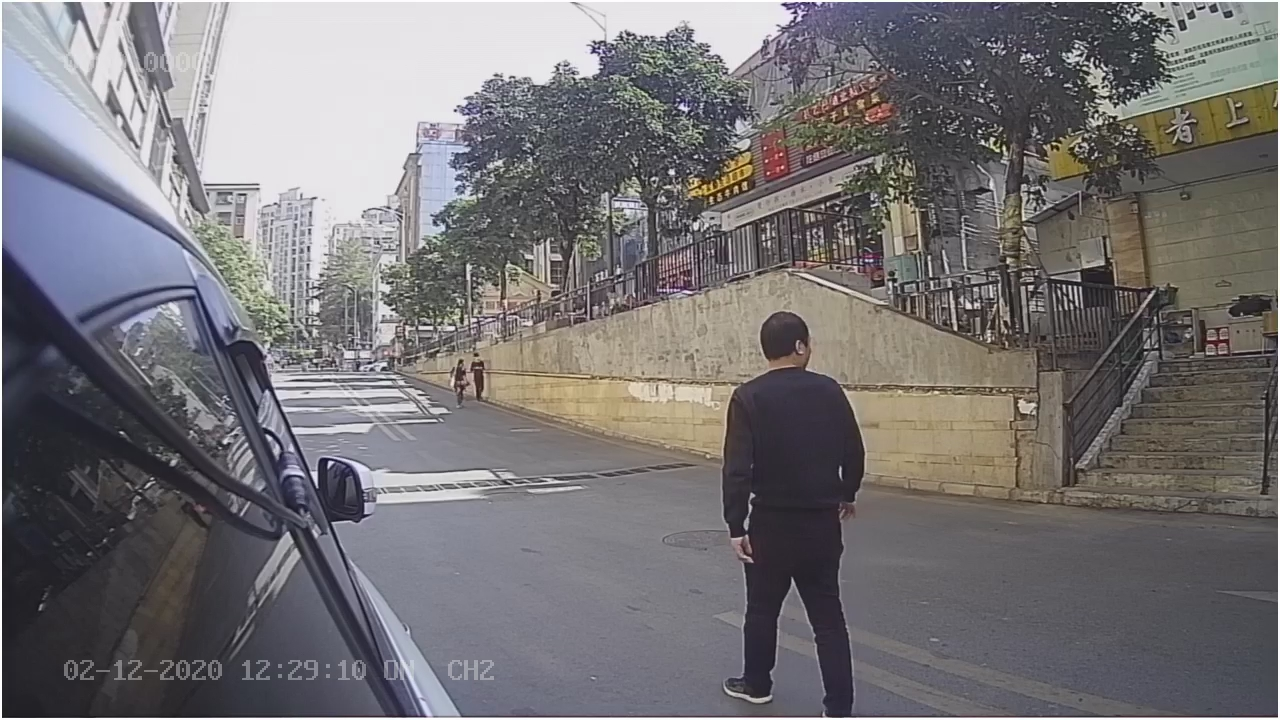person: (704, 310, 884, 703)
